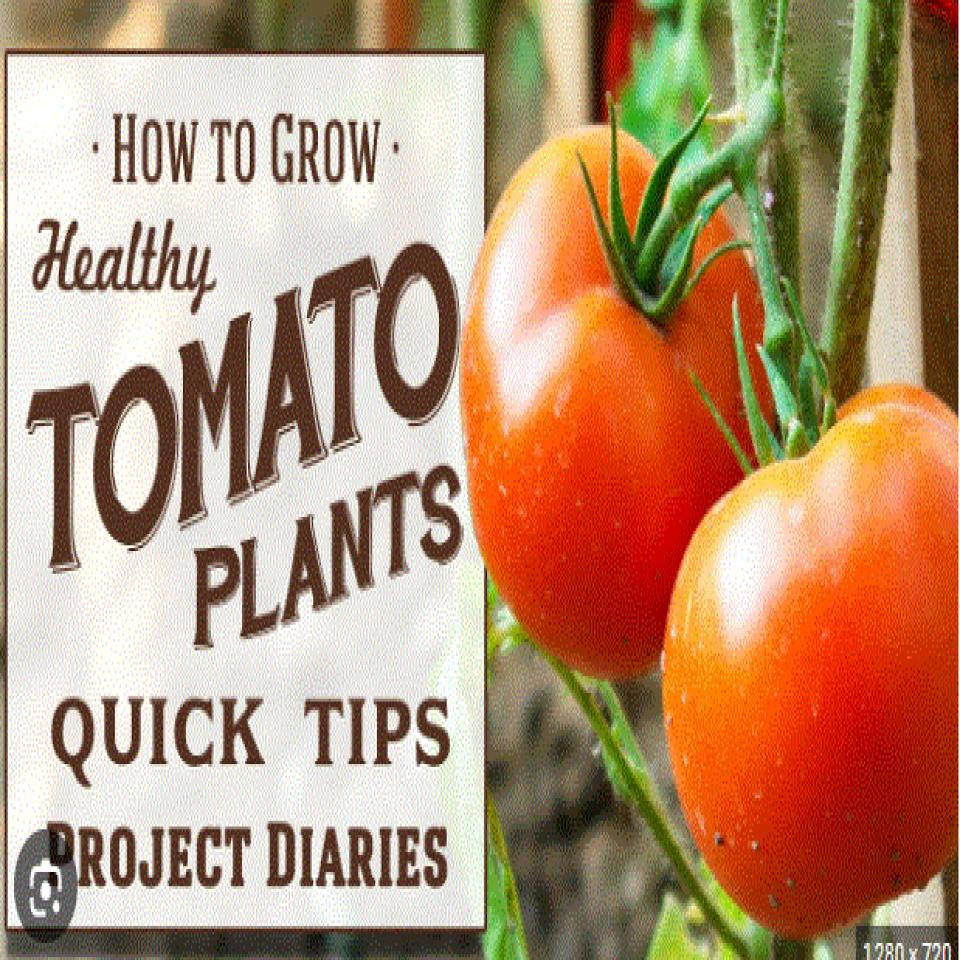Healthy: (676, 384, 953, 913), (473, 138, 733, 559)
